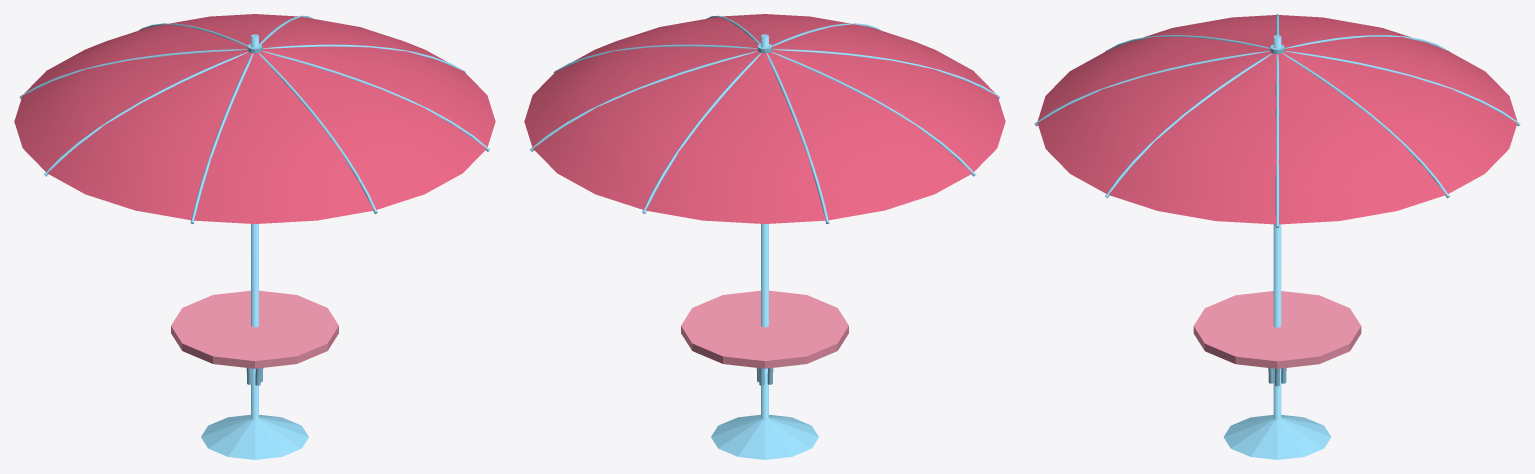
File: Sunshade.fbx
3 views of the same model, side by side, from view 1: azimuth 30°, elevation 25°; view 2: azimuth 150°, elevation 25°; view 3: azimuth 270°, elevation 25° (orthographic).
Visible parts, largest first — view 1: Circle, Cylinder.001, Cylinder, UmbrellaSticks.003, UmbrellaSticks, UmbrellaSticks.001, UmbrellaSticks.002; view 2: Circle, Cylinder.001, Cylinder, UmbrellaSticks.002, UmbrellaSticks, UmbrellaSticks.001, UmbrellaSticks.003; view 3: Circle, Cylinder.001, Cylinder, UmbrellaSticks.001, UmbrellaSticks.002, UmbrellaSticks.003, UmbrellaSticks.
Boxes of the visible parts, x1=… form: Circle: x1=14, y1=14, x2=495, y2=223; Cylinder.001: x1=171, y1=290, x2=338, y2=368; Cylinder: x1=201, y1=34, x2=308, y2=459; UmbrellaSticks.003: x1=19, y1=49, x2=490, y2=151; UmbrellaSticks: x1=44, y1=44, x2=466, y2=176; UmbrellaSticks.001: x1=138, y1=23, x2=377, y2=213; UmbrellaSticks.002: x1=190, y1=15, x2=313, y2=223; Circle: x1=524, y1=14, x2=1005, y2=223; Cylinder.001: x1=681, y1=290, x2=848, y2=368; Cylinder: x1=711, y1=34, x2=818, y2=459; UmbrellaSticks.002: x1=529, y1=49, x2=1000, y2=151; UmbrellaSticks: x1=553, y1=44, x2=975, y2=176; UmbrellaSticks.001: x1=642, y1=23, x2=881, y2=213; UmbrellaSticks.003: x1=706, y1=15, x2=829, y2=223; Circle: x1=1037, y1=15, x2=1517, y2=224; Cylinder.001: x1=1193, y1=291, x2=1361, y2=368; Cylinder: x1=1223, y1=35, x2=1331, y2=459; UmbrellaSticks.001: x1=1034, y1=51, x2=1520, y2=126; UmbrellaSticks.002: x1=1105, y1=35, x2=1449, y2=198; UmbrellaSticks.003: x1=1105, y1=35, x2=1449, y2=198; UmbrellaSticks: x1=1275, y1=14, x2=1279, y2=227.
Bounding box in the file's own units: 1658 × 1506 × 1658.
